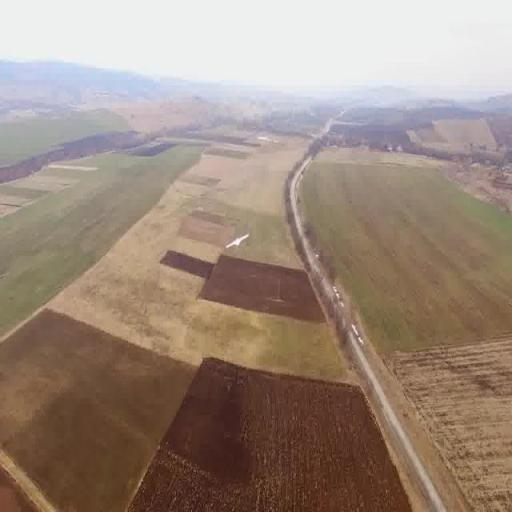uav: (224, 223, 252, 254)
